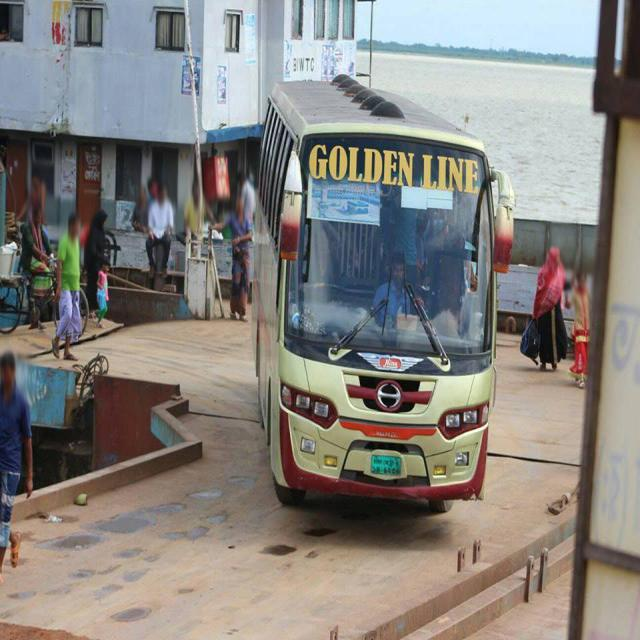bus: (250, 73, 520, 514)
